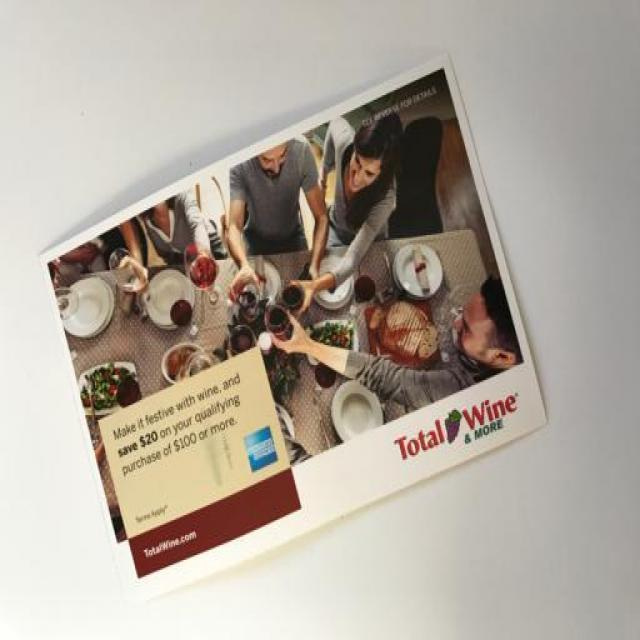paper: (47, 38, 546, 602)
